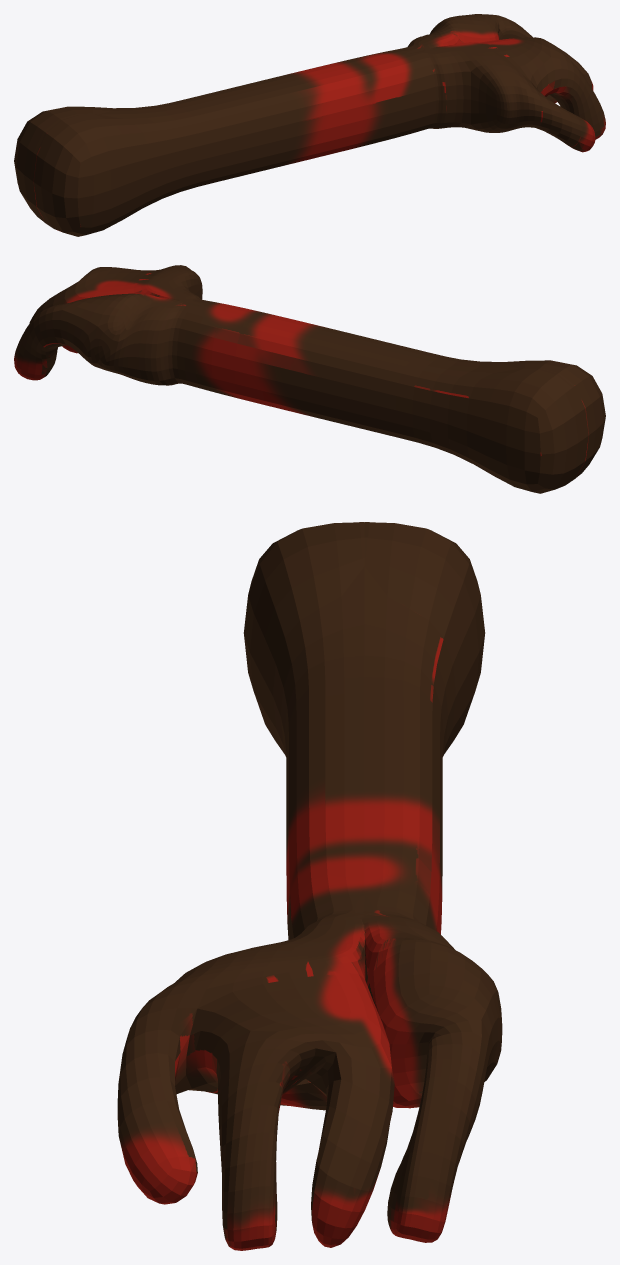
File: MonsterHandsAlt.fbx
3 views of the same model, one above another, from view 1: azimuth 30°, elevation 25°; view 2: azimuth 150°, elevation 25°; view 3: azimuth 270°, elevation 25° (orthographic). The views are drawn at different scales.
Visible parts, largest first — view 1: Cube; view 2: Cube; view 3: Cube.
Part boxes in pixels (bbox=[...]): Cube: bbox=[14, 14, 605, 236]; Cube: bbox=[14, 265, 605, 493]; Cube: bbox=[117, 522, 502, 1250].
Bounding box in the file's own units: 1562 × 326 × 472.
